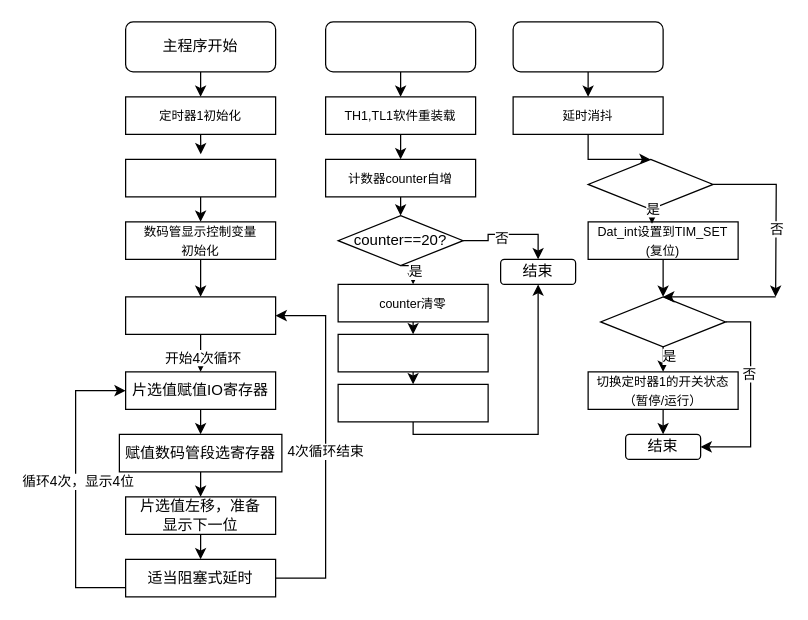
The diagram is 808 pixels wide and 620 high, and some of its shapes have lost their labels. Each missing label, with the centre of its shape:
"Dat_int循环自减" belongs at point (412, 352).
"Dat_int运算为Dat数组 （控制数码管显示）" belongs at point (412, 402).
"INT0下降沿中断" belongs at point (587, 46).
"INT0中断初始化 （按键与门总中断）" belongs at point (200, 177).
"KEY1按下吗？" belongs at point (650, 183).
"KEY2按下吗？" belongs at point (662, 321).
"定时器1中断开始 （50ms一次）" belongs at point (400, 46).
"按键扫描函数（改显示值） 数码管片选初值" belongs at point (200, 315).
